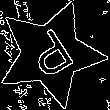P_SE: (20, 22, 81, 85)
